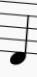D: (9, 0, 30, 66)
